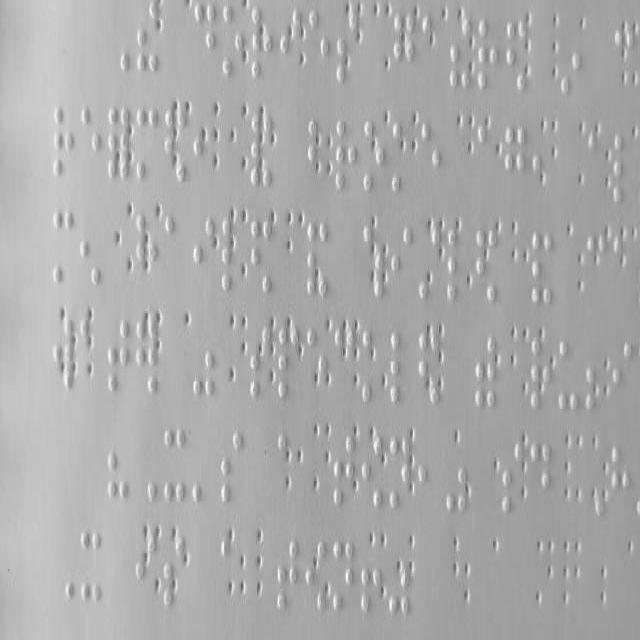braiile: (218, 428, 244, 506), (274, 538, 300, 614), (106, 318, 130, 398), (390, 330, 414, 408), (476, 15, 499, 96), (164, 426, 186, 508), (503, 124, 525, 204), (164, 214, 186, 294), (307, 8, 329, 86), (334, 116, 356, 194), (420, 119, 442, 197), (52, 208, 74, 286), (390, 223, 412, 301), (557, 336, 579, 414), (80, 530, 102, 608), (52, 104, 74, 180), (612, 131, 634, 207), (388, 436, 410, 512), (610, 444, 632, 520), (136, 107, 158, 182), (193, 218, 215, 293), (277, 327, 299, 402), (501, 443, 523, 517), (447, 228, 468, 304), (80, 103, 100, 181), (332, 434, 353, 508), (222, 2, 242, 78), (612, 340, 632, 416), (530, 443, 550, 517), (332, 542, 352, 614), (588, 132, 606, 201)
